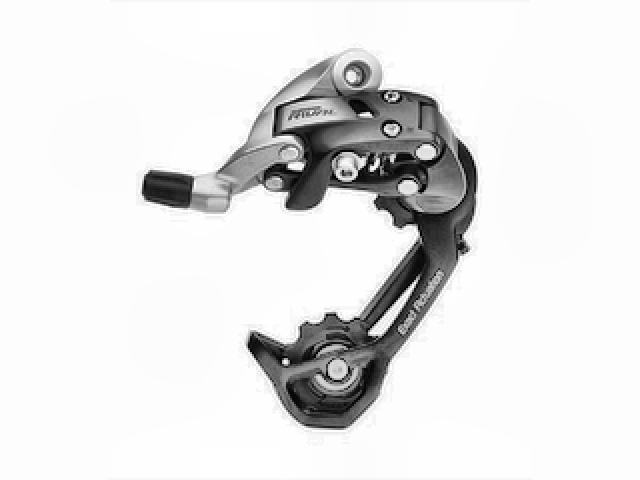rear_derailleur: (137, 45, 483, 433)
